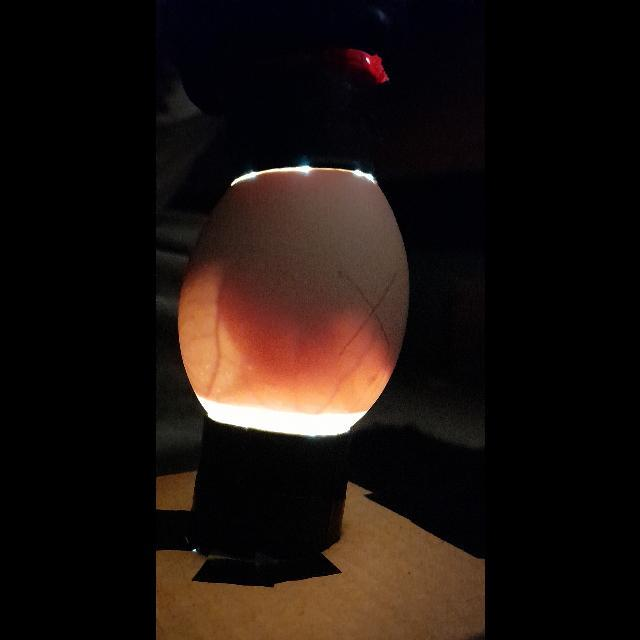Fertile: (180, 172, 416, 438)
